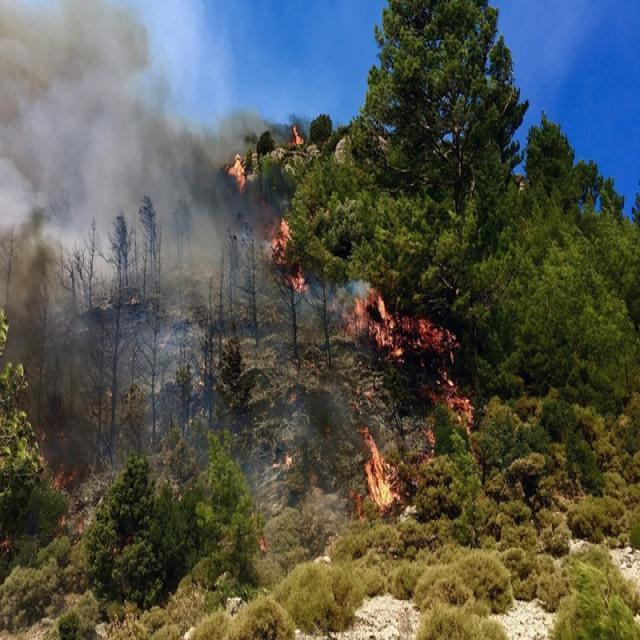Fire: (353, 278, 461, 398), (273, 188, 315, 288), (277, 106, 317, 162), (368, 434, 396, 510), (450, 381, 480, 444), (345, 471, 372, 532), (271, 440, 302, 479), (427, 416, 447, 472), (59, 510, 88, 546), (40, 466, 80, 492), (249, 526, 274, 562), (0, 526, 19, 564), (229, 156, 247, 193)
Smoke: (0, 0, 211, 261), (72, 287, 218, 460), (204, 319, 260, 476), (194, 206, 264, 301)
